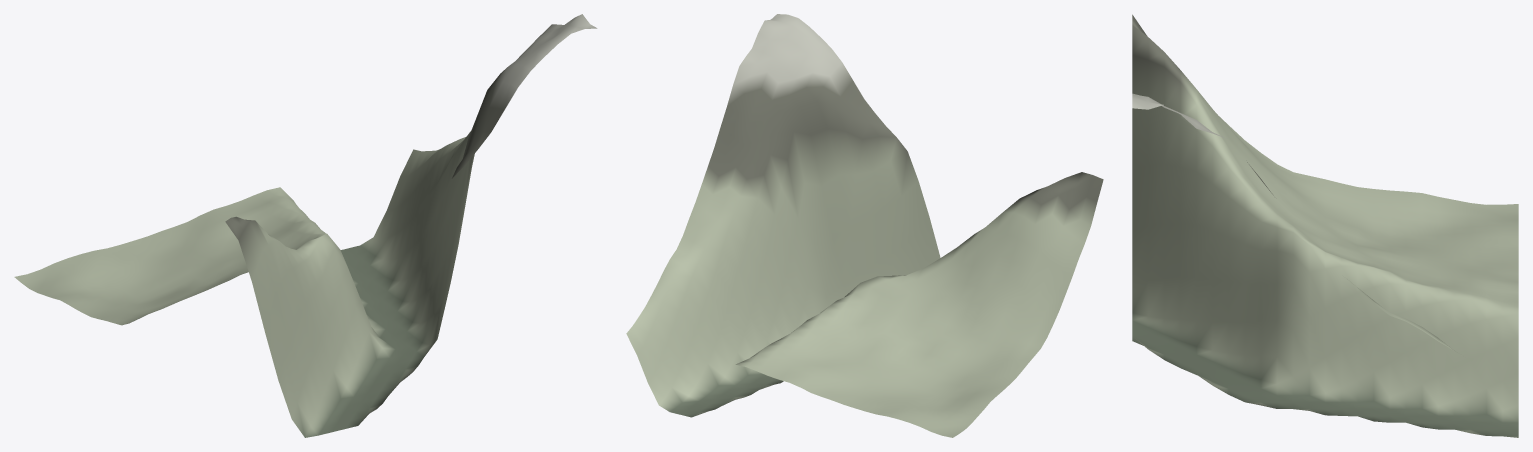
The picture shows the model from 3 angles, left to right: view 1: azimuth 30°, elevation 25°; view 2: azimuth 150°, elevation 25°; view 3: azimuth 270°, elevation 25°; orthographic projection. The views are drawn at different scales.
Visible parts, largest first — view 1: world-ground/90-0; view 2: world-ground/90-0; view 3: world-ground/90-0.
Part boxes in pixels (box(x1,y1,x2,y2)): world-ground/90-0: box(14, 14, 597, 437); world-ground/90-0: box(626, 14, 1103, 437); world-ground/90-0: box(1132, 14, 1518, 437).
Bounding box in the file's own units: 37.5 × 30.71 × 30.
